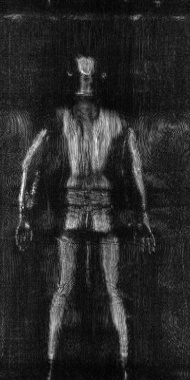gun: (27, 165, 43, 210)
